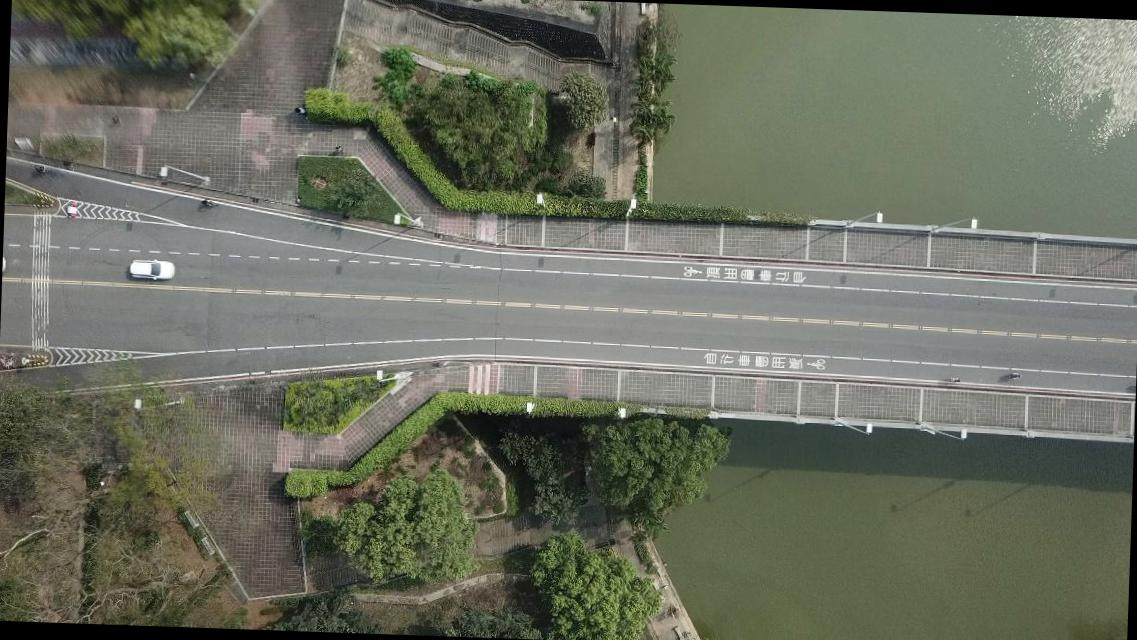vehicle: (128, 258, 174, 282)
